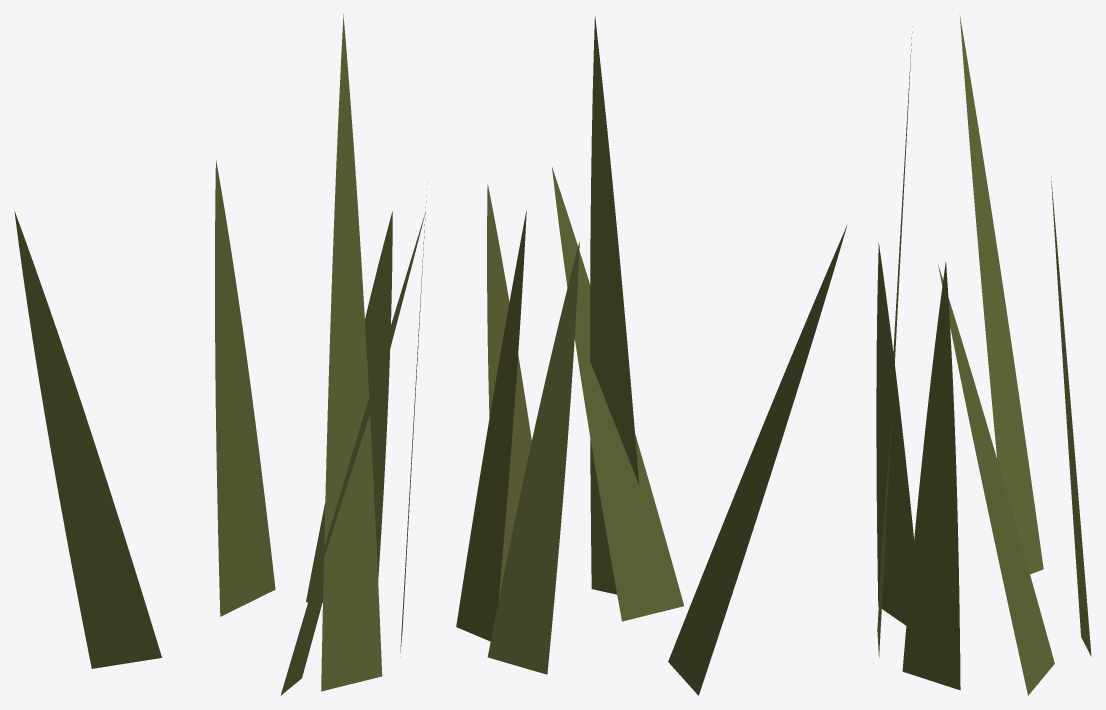
File: grass_tuft.glb
3 views of the same model, side by side, from view 1: azimuth 30°, elevation 25°; view 2: azimuth 150°, elevation 25°; view 3: azimuth 270°, elevation 25° (orthographic). The views are drawn at different scales.
Visible parts, largest first — view 1: GrassTuft; view 2: GrassTuft; view 3: GrassTuft.
Part boxes in pixels (x1=…): GrassTuft: x1=14, y1=14, x2=427, y2=695; GrassTuft: x1=456, y1=16, x2=847, y2=695; GrassTuft: x1=876, y1=14, x2=1091, y2=695.
Bounding box in the file's own units: 0.3668 × 0.57 × 0.1757.
